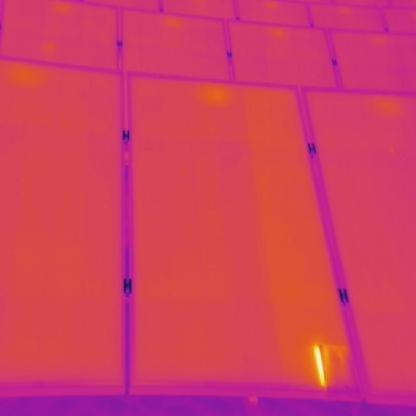anomaly: (309, 339, 343, 390)
